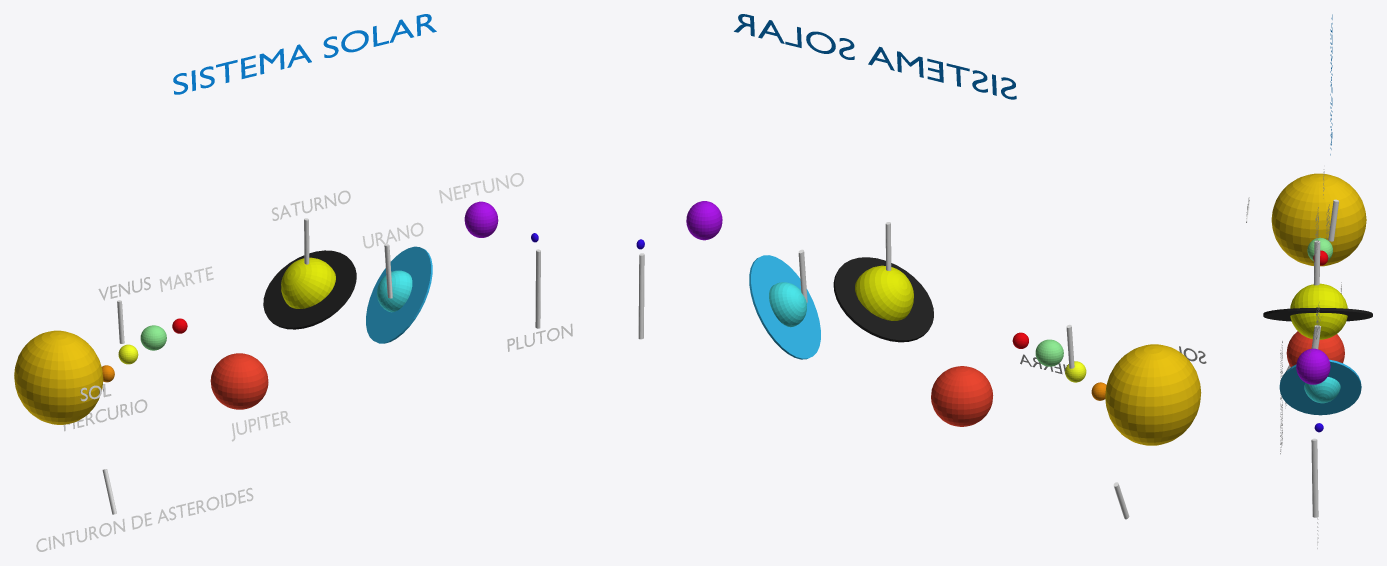
The model's file is sistemasolar.glb.
3 views of the same model, side by side, from view 1: azimuth 30°, elevation 25°; view 2: azimuth 150°, elevation 25°; view 3: azimuth 270°, elevation 25° (orthographic). The views are drawn at different scales.
Visible parts, largest first — view 1: Esfera, Cilindro, Cilindro.001, Esfera.005, Texto.011, Esfera.006, Texto.005, Esfera.007, Esfera.008; view 2: Esfera, Cilindro, Cilindro.001, Esfera.005, Esfera.006, Texto.011, Esfera.007, Esfera.008; view 3: Esfera, Cilindro.001, Esfera.006, Esfera.005, Esfera.008, Cilindro, Esfera.007, Cilindro.004, Esfera.003, Cilindro.006, Cilindro.003, Texto.011 (+1 smaller).
Boxes of the visible parts, x1=… form: Esfera: x1=14, y1=330, x2=103, y2=424; Cilindro: x1=263, y1=250, x2=356, y2=329; Cilindro.001: x1=366, y1=246, x2=432, y2=343; Esfera.005: x1=210, y1=353, x2=268, y2=409; Texto.011: x1=173, y1=14, x2=436, y2=94; Esfera.006: x1=281, y1=257, x2=335, y2=308; Texto.005: x1=36, y1=487, x2=253, y2=551; Esfera.007: x1=377, y1=270, x2=412, y2=312; Esfera.008: x1=464, y1=201, x2=498, y2=237; Esfera: x1=1105, y1=344, x2=1201, y2=445; Cilindro: x1=833, y1=257, x2=933, y2=342; Cilindro.001: x1=749, y1=255, x2=820, y2=359; Esfera.005: x1=931, y1=366, x2=993, y2=426; Esfera.006: x1=855, y1=265, x2=913, y2=320; Texto.011: x1=734, y1=14, x2=1016, y2=99; Esfera.007: x1=769, y1=282, x2=806, y2=327; Esfera.008: x1=686, y1=201, x2=722, y2=240; Esfera: x1=1271, y1=173, x2=1366, y2=266; Cilindro.001: x1=1279, y1=359, x2=1361, y2=415; Esfera.006: x1=1290, y1=283, x2=1347, y2=339; Esfera.005: x1=1286, y1=331, x2=1344, y2=366; Esfera.008: x1=1296, y1=348, x2=1330, y2=384; Cilindro: x1=1263, y1=307, x2=1372, y2=321; Esfera.007: x1=1304, y1=377, x2=1340, y2=403; Cilindro.004: x1=1311, y1=438, x2=1318, y2=517; Esfera.003: x1=1307, y1=237, x2=1332, y2=261; Cilindro.006: x1=1313, y1=240, x2=1320, y2=285; Cilindro.003: x1=1328, y1=199, x2=1338, y2=241; Texto.011: x1=1330, y1=14, x2=1332, y2=155.
Bounding box in the file's own units: 32.23 × 23.31 × 6.42.
